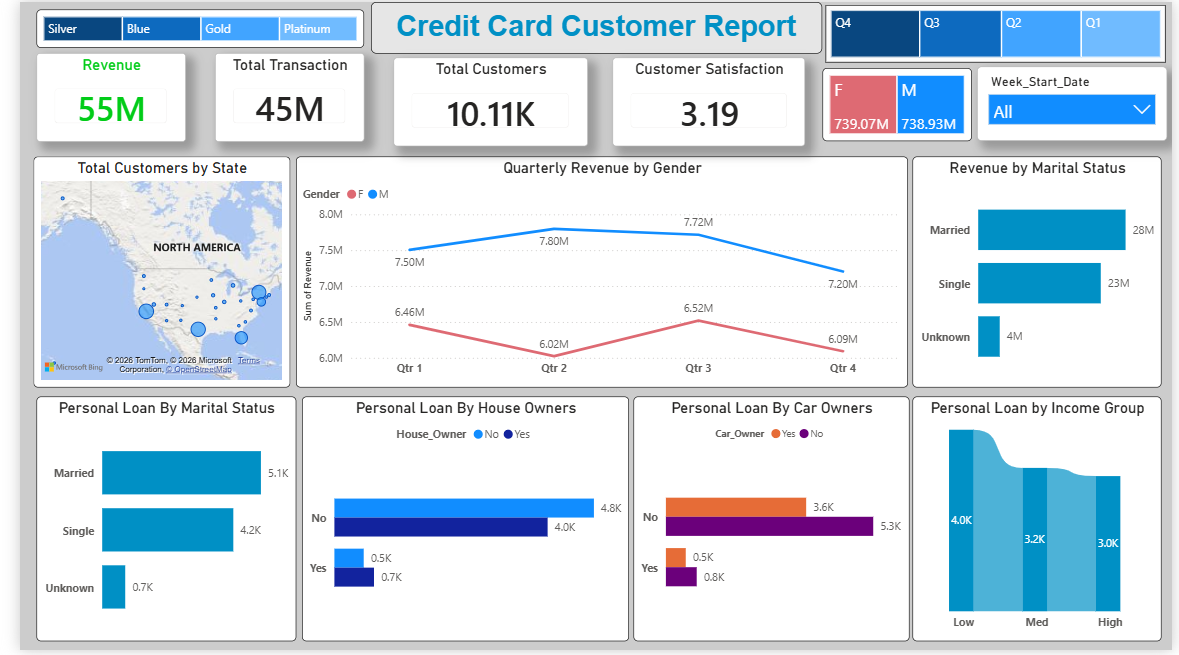

Layout of this report page (visuals, bound fields, positions):
{"tool":"powerbi","page":{"name":"CC Customer","canvas":[1280,720],"ordinal":2},"visuals":[{"type":"textbox","box":[389.7,0,501,57.3],"z":0},{"type":"lineChart","title":"Quarterly Revenue by Gender","fields":{"Category":["ccdb cc_detail.Week_Start_Date.Variation.Date Hierarchy.Quarter"],"Y":["Sum(ccdb cc_detail.Revenue)"],"Series":["ccdb cust_detail.Gender"]},"box":[306.7,171.7,680,256.7],"z":1000},{"type":"clusteredBarChart","title":"Revenue by Marital Status","fields":{"Y":["Sum(ccdb cc_detail.Revenue)"],"Category":["ccdb cust_detail.Marital_Status"]},"box":[991.7,171.7,276.7,256.7],"z":2000},{"type":"ribbonChart","title":"Personal Loan by Income Group","fields":{"Category":["ccdb cust_detail.IncomeGroup"],"Y":["CountNonNull(ccdb cust_detail.Personal_Loan)"]},"box":[991.7,438.3,276.7,271.7],"z":3000},{"type":"clusteredBarChart","title":"Personal Loan By Marital Status","fields":{"Category":["ccdb cust_detail.Marital_Status"],"Y":["CountNonNull(ccdb cust_detail.Personal_Loan)"]},"box":[18.3,438.3,288.3,271.7],"z":4000},{"type":"clusteredBarChart","title":"Personal Loan By Car Owners","fields":{"Category":["ccdb cust_detail.Personal_Loan"],"Y":["CountNonNull(ccdb cust_detail.Car_Owner)"],"Series":["ccdb cust_detail.Car_Owner"]},"box":[681.7,438.3,306.7,271.7],"z":5000},{"type":"clusteredBarChart","title":"Personal Loan By House Owners","fields":{"Y":["CountNonNull(ccdb cust_detail.House_Owner)"],"Category":["ccdb cust_detail.Personal_Loan"],"Series":["ccdb cust_detail.House_Owner"]},"box":[313.3,438.3,363.3,271.7],"z":6000},{"type":"cardVisual","title":"Revenue","fields":{"Data":["Sum(ccdb cc_detail.Revenue)"]},"box":[18.8,56.3,165.7,98.5],"z":7000},{"type":"cardVisual","title":"Total Transaction","fields":{"Data":["Sum(ccdb cc_detail.Total_Trans_Amt)"]},"box":[217.3,56.3,165.7,98.5],"z":8000},{"type":"cardVisual","title":"Total Customers","fields":{"Data":["Count(ccdb cc_detail.Client_Num)"]},"box":[415.8,61,215.7,98.5],"z":9000},{"type":"cardVisual","title":"Customer Satisfaction","fields":{"Data":["Avg(ccdb cust_detail.Cust_Satisfaction_Score)"]},"box":[658,61,214.1,98.5],"z":10000},{"type":"slicer","fields":{"Values":["ccdb cc_detail.Week_Start_Date"]},"box":[1062.8,71.9,211,82.8],"z":11000},{"type":"treemap","fields":{"Group":["ccdb cc_detail.Qtr"],"Values":["Avg(ccdb cc_detail.Client_Num)"]},"box":[895.6,3.1,378.2,64.1],"z":12000},{"type":"treemap","fields":{"Group":["ccdb cust_detail.Gender"],"Values":["Avg(ccdb cc_detail.Client_Num)"]},"box":[890.9,73.5,165.7,81.3],"z":13000},{"type":"treemap","fields":{"Group":["ccdb cc_detail.Card_Category"],"Values":["Avg(ccdb cc_detail.Client_Num)"]},"box":[19.1,8,364.2,42.9],"z":14000},{"type":"map","title":"Total Customers by State","fields":{"Category":["ccdb cust_detail.State_cd"],"Size":["ccdb cust_detail.Total Customers"]},"box":[15,171.7,285,256.7],"z":15000}]}

Visuals, with their boxes in screenshot pixels (x1, y1, x2, y2), scaled from the page's 1280x720 canvas onto the 1179x655 screenshot:
textbox: {"left": 359, "top": 0, "right": 820, "bottom": 52}
"Quarterly Revenue by Gender" lineChart: {"left": 282, "top": 156, "right": 909, "bottom": 390}
"Revenue by Marital Status" clusteredBarChart: {"left": 913, "top": 156, "right": 1168, "bottom": 390}
"Personal Loan by Income Group" ribbonChart: {"left": 913, "top": 399, "right": 1168, "bottom": 646}
"Personal Loan By Marital Status" clusteredBarChart: {"left": 17, "top": 399, "right": 282, "bottom": 646}
"Personal Loan By Car Owners" clusteredBarChart: {"left": 628, "top": 399, "right": 910, "bottom": 646}
"Personal Loan By House Owners" clusteredBarChart: {"left": 289, "top": 399, "right": 623, "bottom": 646}
"Revenue" cardVisual: {"left": 17, "top": 51, "right": 170, "bottom": 141}
"Total Transaction" cardVisual: {"left": 200, "top": 51, "right": 353, "bottom": 141}
"Total Customers" cardVisual: {"left": 383, "top": 55, "right": 582, "bottom": 145}
"Customer Satisfaction" cardVisual: {"left": 606, "top": 55, "right": 803, "bottom": 145}
slicer - ccdb cc_detail.Week_Start_Date: {"left": 979, "top": 65, "right": 1173, "bottom": 141}
treemap - ccdb cc_detail.Qtr x Avg(ccdb cc_detail.Client_Num): {"left": 825, "top": 3, "right": 1173, "bottom": 61}
treemap - ccdb cust_detail.Gender x Avg(ccdb cc_detail.Client_Num): {"left": 821, "top": 67, "right": 973, "bottom": 141}
treemap - ccdb cc_detail.Card_Category x Avg(ccdb cc_detail.Client_Num): {"left": 18, "top": 7, "right": 353, "bottom": 46}
"Total Customers by State" map: {"left": 14, "top": 156, "right": 276, "bottom": 390}
